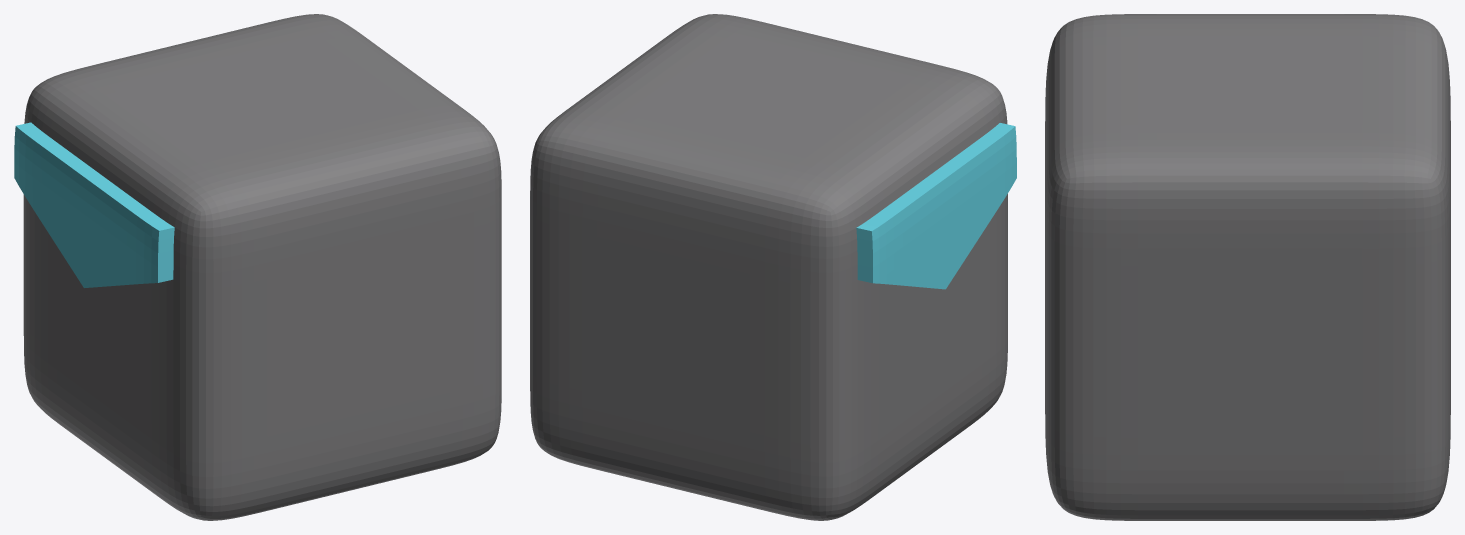
The model's file is beatsabercube 1.fbx.
The picture shows the model from 3 angles, left to right: view 1: azimuth 30°, elevation 25°; view 2: azimuth 150°, elevation 25°; view 3: azimuth 270°, elevation 25°; orthographic projection. The views are drawn at different scales.
Parts seen in each view (by area): view 1: Cube; view 2: Cube; view 3: Cube.
Boxes of the visible parts, x1,y1,x2,y2 form: Cube: (14, 14, 501, 520); Cube: (530, 14, 1016, 520); Cube: (1045, 14, 1450, 520).
Bounding box in the file's own units: 210 × 200 × 200.
